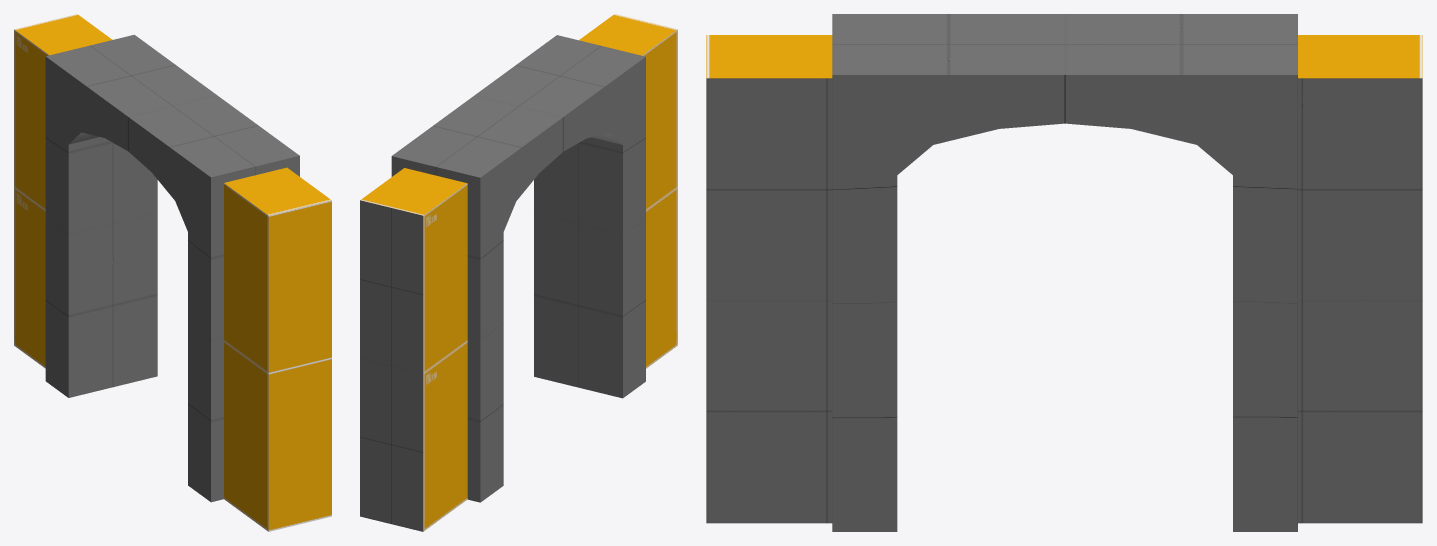
Rendered from WallDoor.fbx.
The picture shows the model from 3 angles, left to right: view 1: azimuth 30°, elevation 25°; view 2: azimuth 150°, elevation 25°; view 3: azimuth 270°, elevation 25°; orthographic projection. The views are drawn at different scales.
Visible parts, largest first — view 1: WallDoor; view 2: WallDoor; view 3: WallDoor.
Part boxes in pixels (<box>): WallDoor: <box>14,14,331,531</box>; WallDoor: <box>360,14,677,531</box>; WallDoor: <box>706,14,1422,531</box>.
Bounding box in the file's own units: 1.51 × 5.25 × 7.46.
